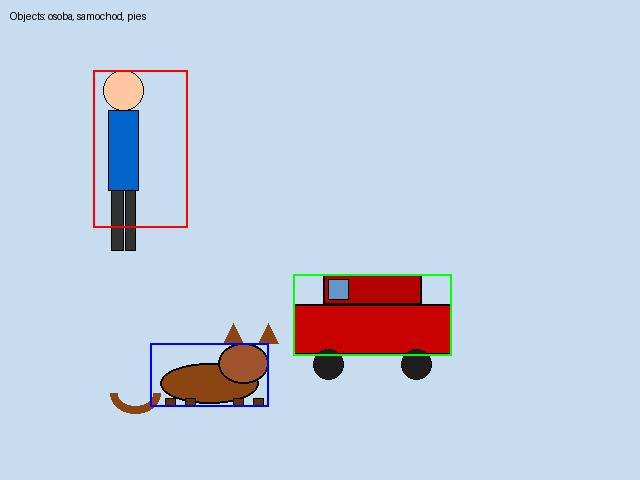osoba: (93, 70, 187, 227)
pies: (150, 343, 268, 406)
samochod: (293, 274, 451, 355)
